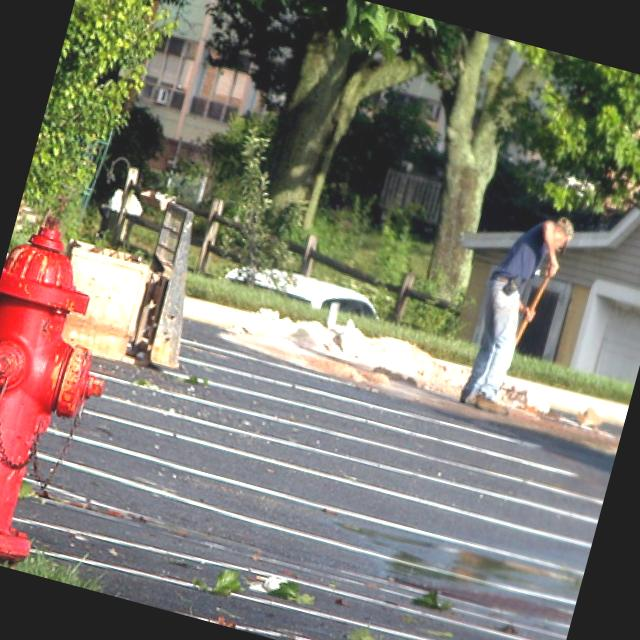Vehicle: (222, 248, 390, 324)
